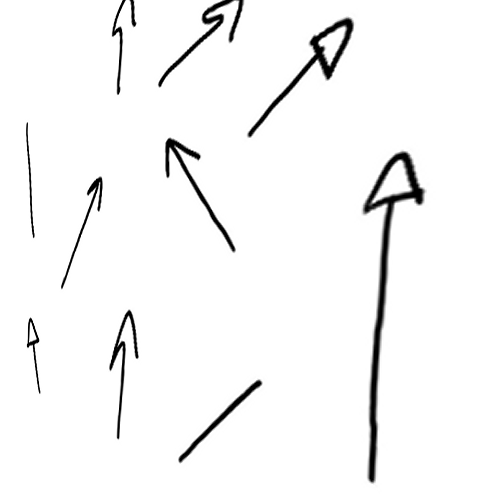arrow: (363, 149, 426, 483), (245, 17, 355, 138), (164, 136, 238, 254), (153, 1, 243, 87), (179, 375, 263, 463), (56, 176, 106, 286), (109, 313, 140, 441), (108, 1, 140, 98), (23, 317, 44, 392), (24, 120, 36, 236)
